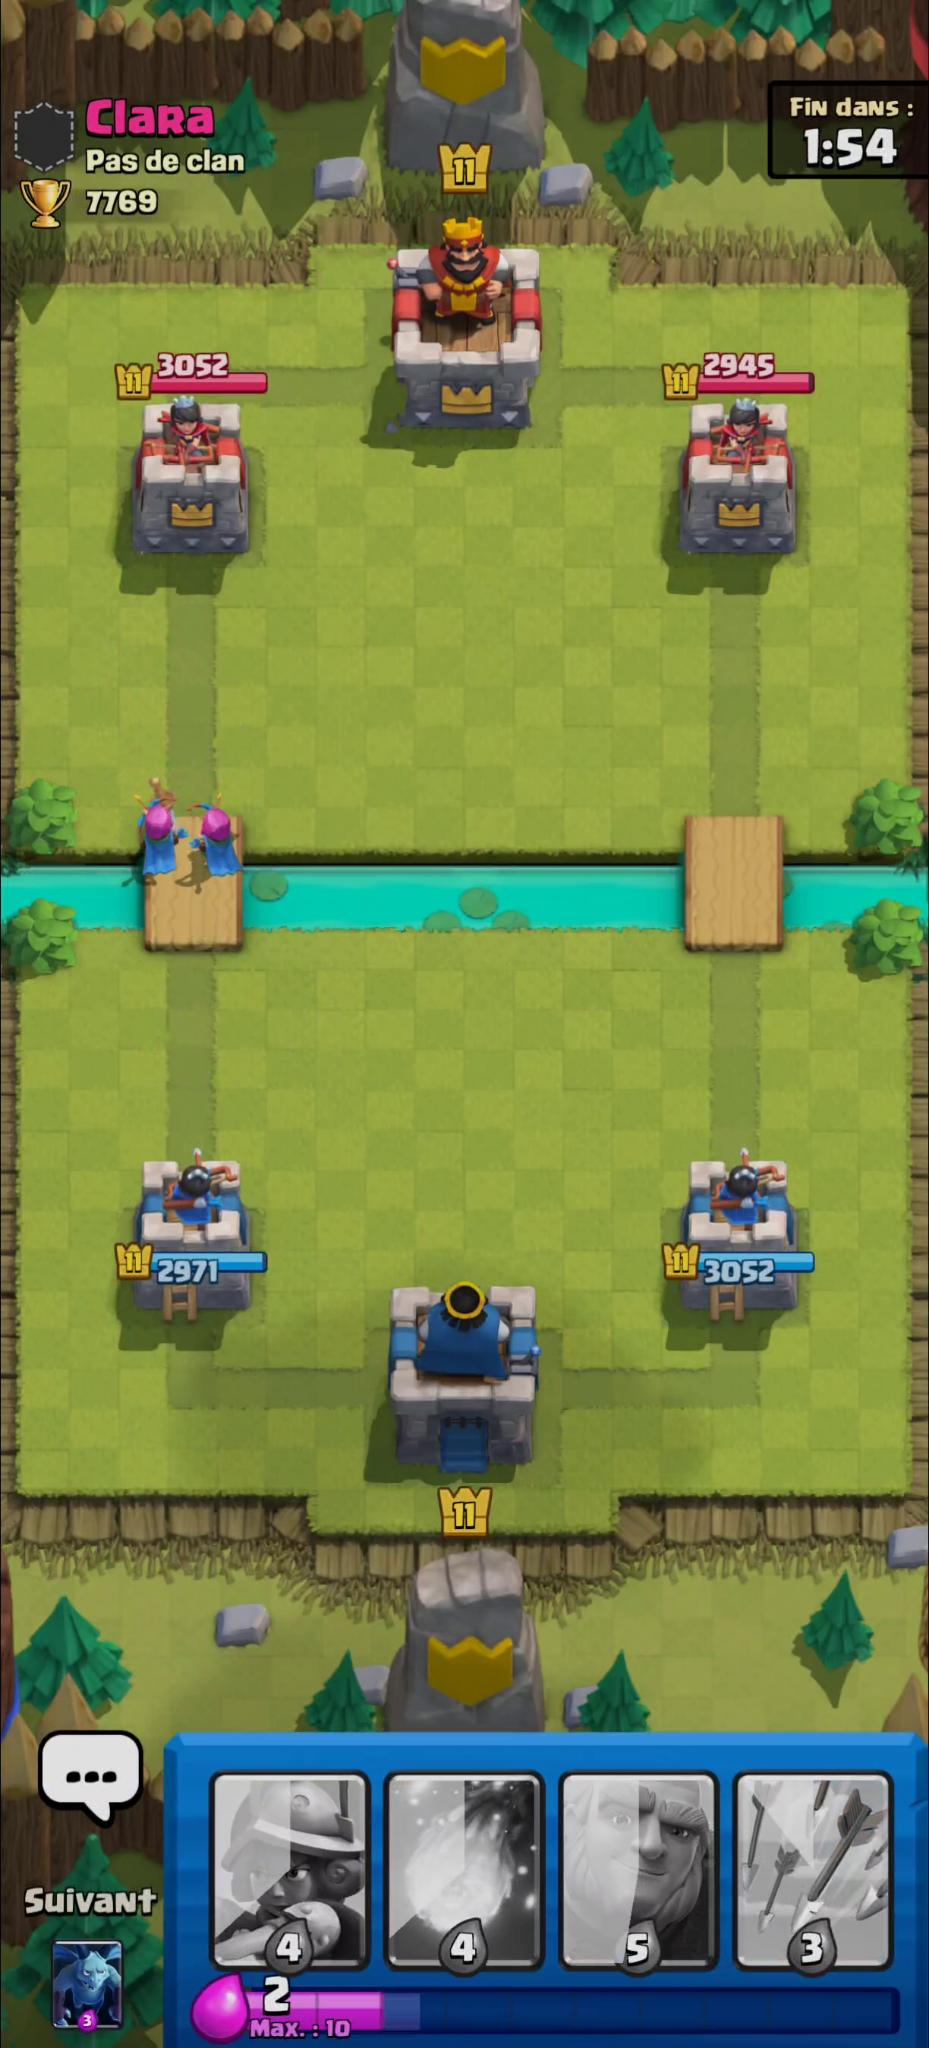archere: (187, 793, 246, 888), (133, 788, 187, 887)
